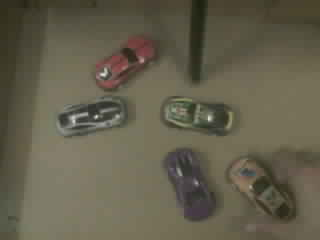Car: (227, 158, 291, 218), (165, 148, 213, 219), (95, 37, 152, 89), (162, 96, 233, 135), (58, 97, 125, 135)
